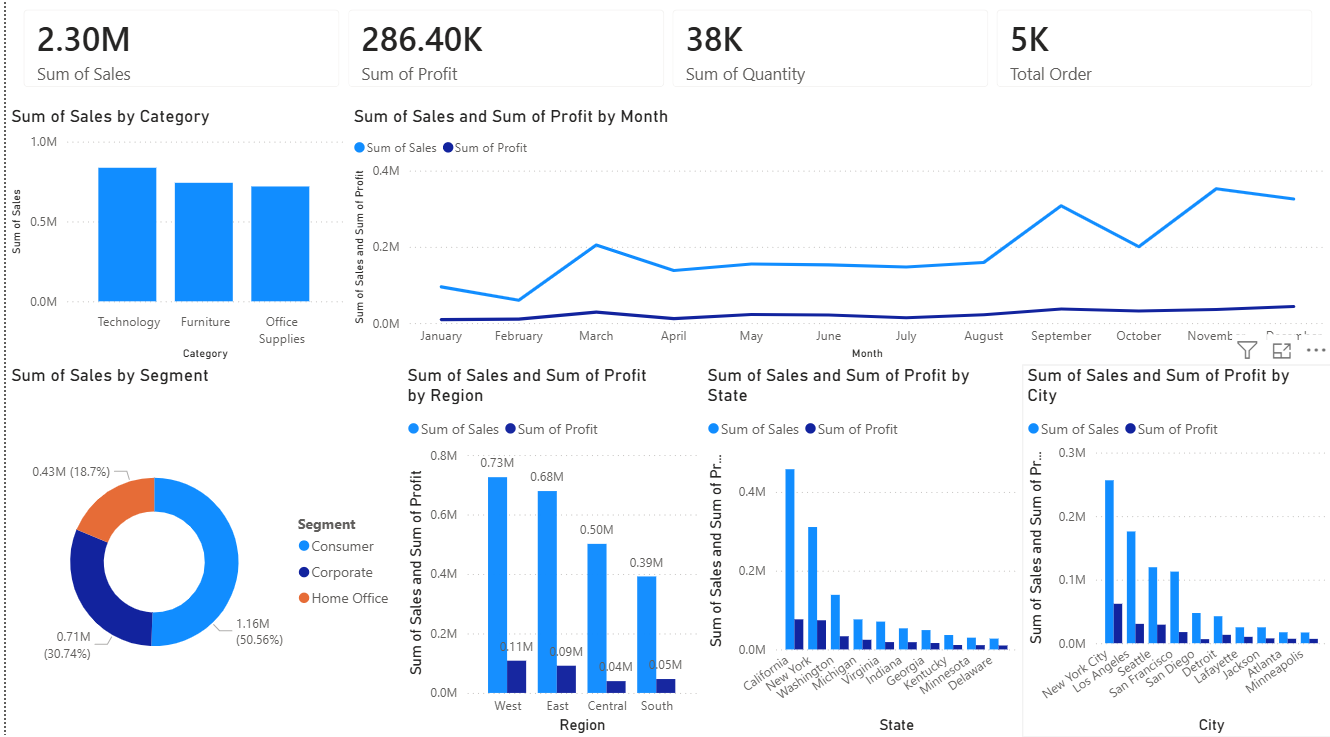

The dashboard page shown, as its layout file describes it:
{"tool":"powerbi","page":{"name":"Page 1","canvas":[1280,720],"ordinal":0},"visuals":[{"type":"cardVisual","fields":{"Data":["Sum(Ready for Visualization.Sales)","Sum(Ready for Visualization.Profit)","Sum(Ready for Visualization.Quantity)","Ready for Visualization.Total Order"]},"box":[0,0,1278.8,109.8],"z":0},{"type":"clusteredColumnChart","fields":{"Category":["Ready for Visualization.Category"],"Y":["Sum(Ready for Visualization.Sales)"]},"box":[0,109.8,330.6,249.7],"z":1000},{"type":"donutChart","fields":{"Category":["Ready for Visualization.Segment"],"Y":["Sum(Ready for Visualization.Sales)"]},"box":[0,359.5,383.6,360.7],"z":2000},{"type":"lineChart","fields":{"Category":["Ready for Visualization.Order Date.Variation.Date Hierarchy.Month"],"Y":["Sum(Ready for Visualization.Sales)","Sum(Ready for Visualization.Profit)"]},"box":[330.6,109.8,949.5,249.7],"z":3000},{"type":"clusteredColumnChart","fields":{"Category":["Ready for Visualization.Region"],"Y":["Sum(Ready for Visualization.Sales)","Sum(Ready for Visualization.Profit)"]},"box":[382.4,359.5,289.5,360.7],"z":4000},{"type":"clusteredColumnChart","fields":{"Category":["Ready for Visualization.City"],"Y":["Sum(Ready for Visualization.Sales)","Sum(Ready for Visualization.Profit)"]},"box":[980.8,359.5,299.2,360.7],"z":5000},{"type":"clusteredColumnChart","fields":{"Category":["Ready for Visualization.State"],"Y":["Sum(Ready for Visualization.Sales)","Sum(Ready for Visualization.Profit)"]},"box":[672,359.5,308.8,360.7],"z":6000}]}

Visuals, with their boxes in screenshot pixels (x1, y1, x2, y2), scaled from the page's 1280x720 canvas onto the 1330x737 screenshot:
cardVisual - Sum(Ready for Visualization.Sales) x Sum(Ready for Visualization.Profit): box(0, 0, 1329, 112)
clusteredColumnChart - Ready for Visualization.Category x Sum(Ready for Visualization.Sales): box(0, 112, 344, 368)
donutChart - Ready for Visualization.Segment x Sum(Ready for Visualization.Sales): box(0, 368, 399, 736)
lineChart - Ready for Visualization.Order Date.Variation.Date Hierarchy.Month x Sum(Ready for Visualization.Sales): box(344, 112, 1329, 368)
clusteredColumnChart - Ready for Visualization.Region x Sum(Ready for Visualization.Sales): box(397, 368, 698, 736)
clusteredColumnChart - Ready for Visualization.City x Sum(Ready for Visualization.Sales): box(1019, 368, 1329, 736)
clusteredColumnChart - Ready for Visualization.State x Sum(Ready for Visualization.Sales): box(698, 368, 1019, 736)
